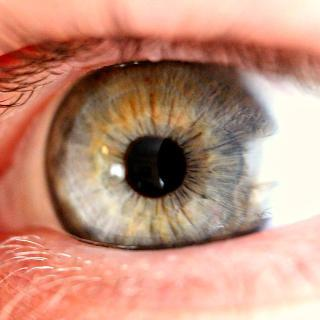pupil: (122, 133, 187, 198)
